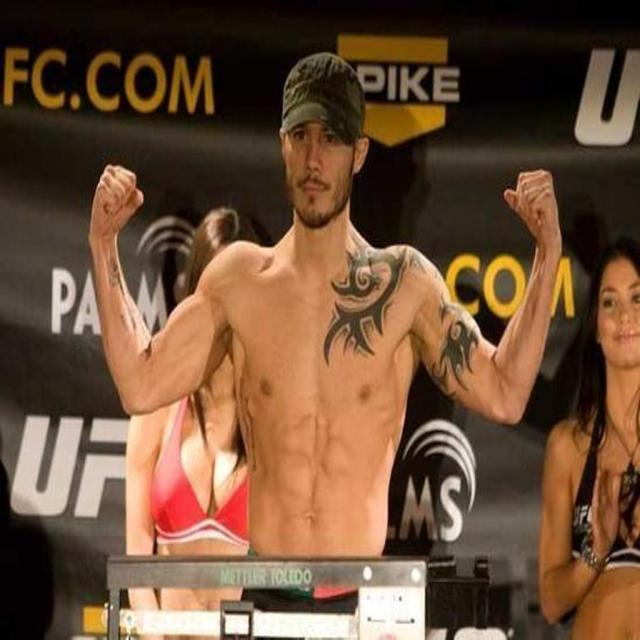Face: (283, 115, 367, 237), (592, 262, 640, 367)
